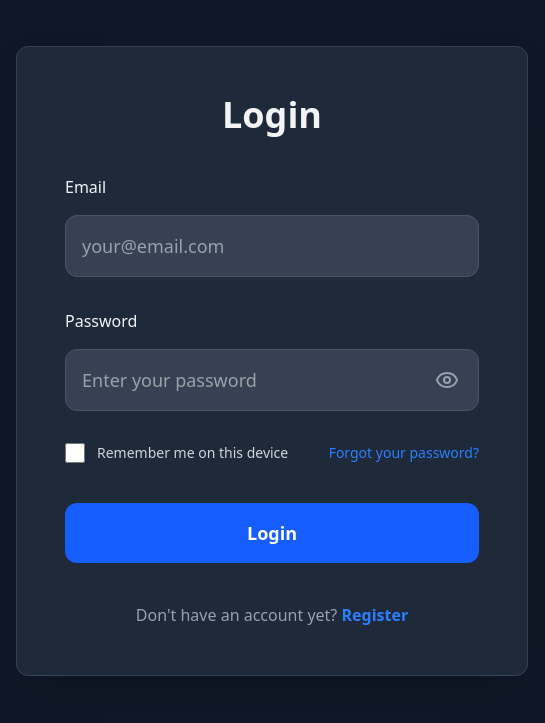
Test: AuthForm Component - Login Functionality › displays an error message on failed login
Type "wrong@example.com" into the field labelled "Email" at (272, 246), box [65,215,479,277]
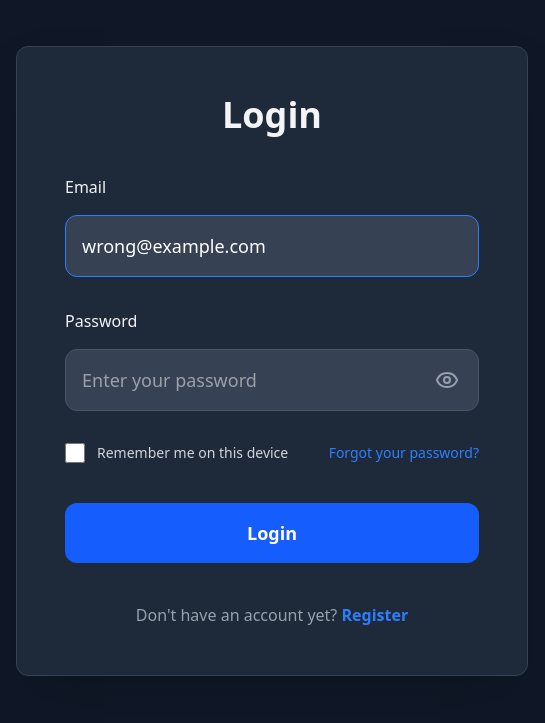
Type "wrongpass" into the password field labelled "Password" at (272, 380), box [65,349,479,411]
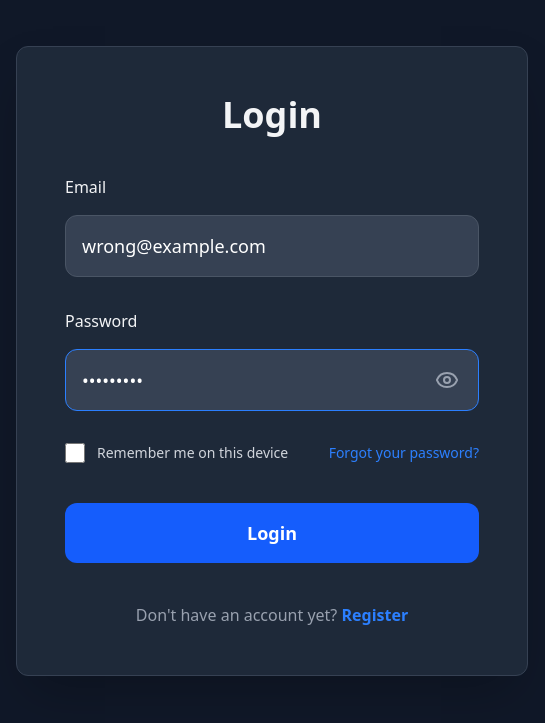
Click the button "Login" at (272, 533), box [65,503,479,563]
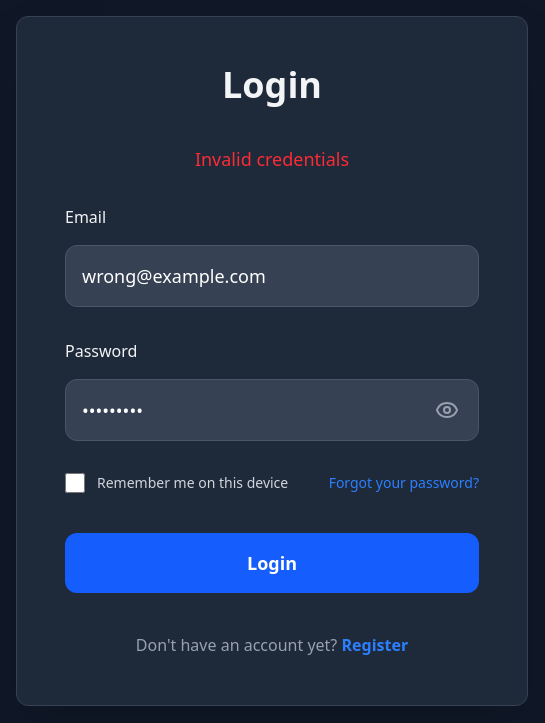
Expected: the text "Invalid credentials" is shown, [195,147,349,171]
